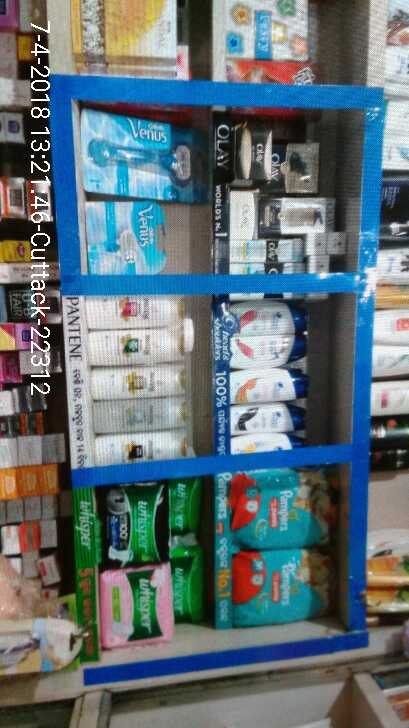venus: (86, 109, 207, 191), (85, 201, 166, 272)
